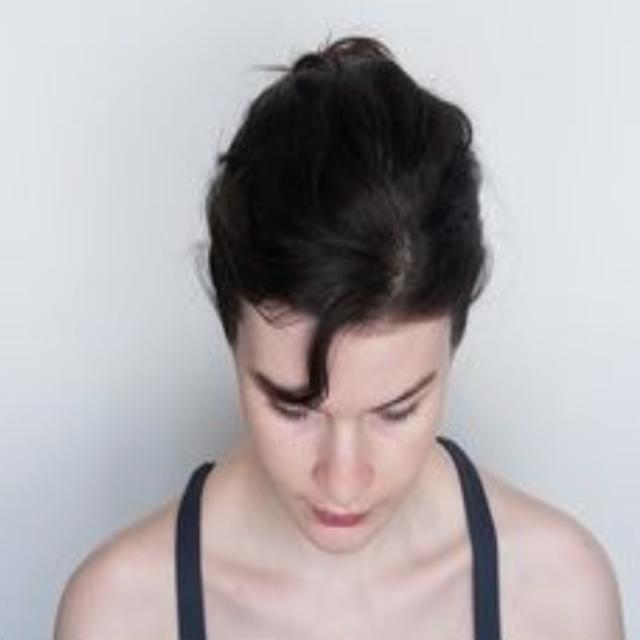9_cabeza_baja: (205, 37, 492, 536)
